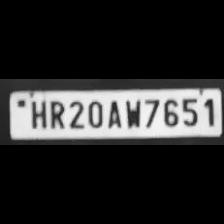0: (85, 97, 105, 129)
1: (199, 95, 219, 127)
2: (65, 98, 84, 130)
5: (178, 95, 200, 127)
6: (160, 96, 178, 128)
7: (142, 96, 160, 128)
A: (104, 97, 122, 129)
H: (26, 97, 46, 129)
R: (46, 98, 64, 130)
W: (121, 96, 141, 128)
